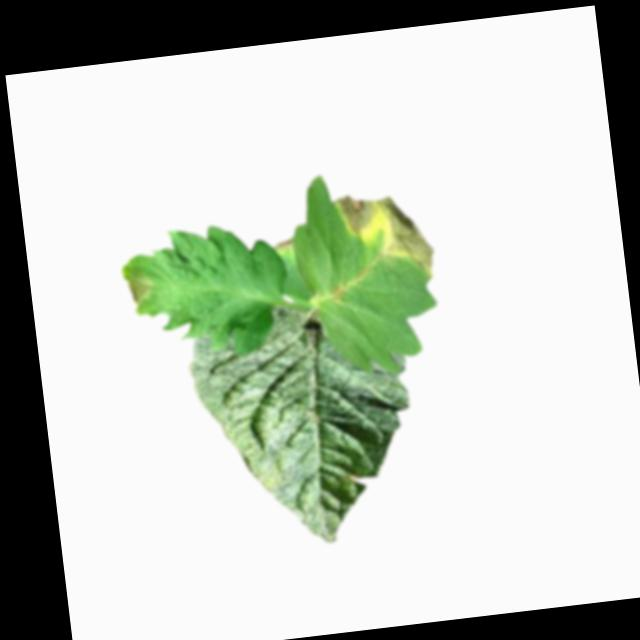Late_blight: (333, 184, 438, 289), (124, 269, 156, 312), (275, 237, 297, 250)
